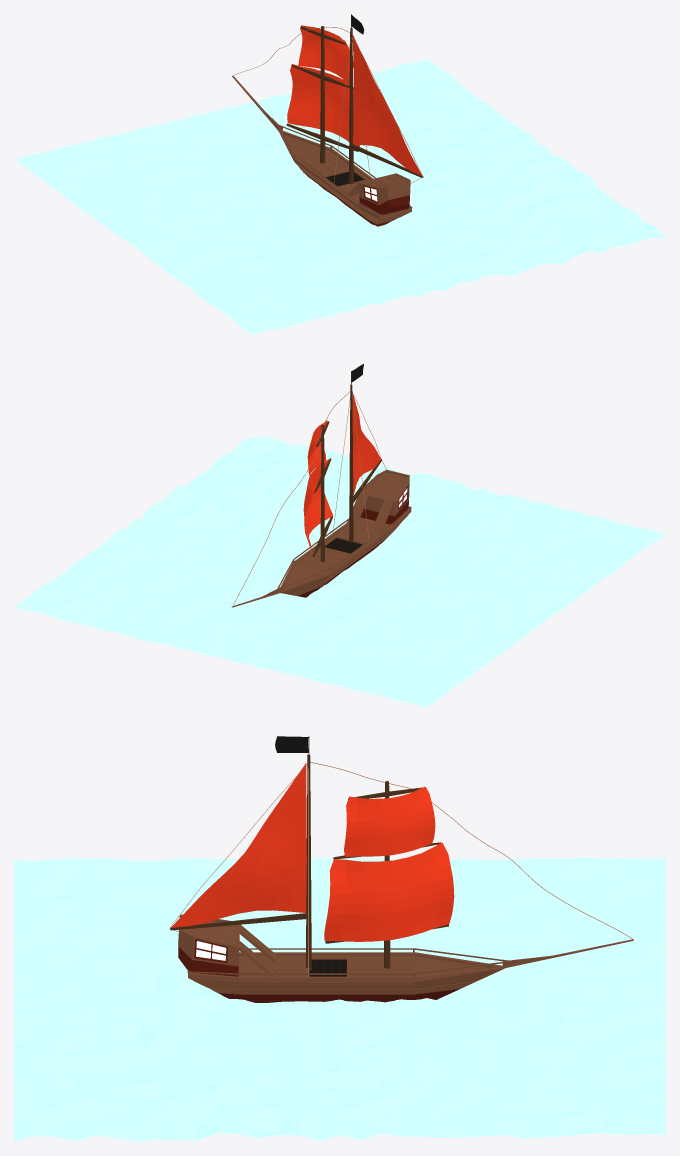
File: low_poly_sailing_boat.glb
3 renders of one model, top to bottom at view 1: azimuth 30°, elevation 25°; view 2: azimuth 150°, elevation 25°; view 3: azimuth 270°, elevation 25°, orthographic. The views are drawn at different scales.
Visible parts, largest first — view 1: Object_3, Object_4, Object_5; view 2: Object_3, Object_4, Object_5; view 3: Object_3, Object_4, Object_5.
Part boxes in pixels (bbox=[...]): Object_3: bbox=[14, 59, 665, 334]; Object_4: bbox=[232, 14, 423, 226]; Object_5: bbox=[286, 25, 360, 163]; Object_3: bbox=[14, 436, 665, 707]; Object_4: bbox=[232, 364, 411, 607]; Object_5: bbox=[303, 420, 333, 562]; Object_3: bbox=[14, 857, 665, 1141]; Object_4: bbox=[169, 736, 633, 1002]; Object_5: bbox=[324, 781, 454, 968].
Bounding box in the file's own units: 131 × 60.16 × 131.
Materials: 3 (1 with a texture image).
